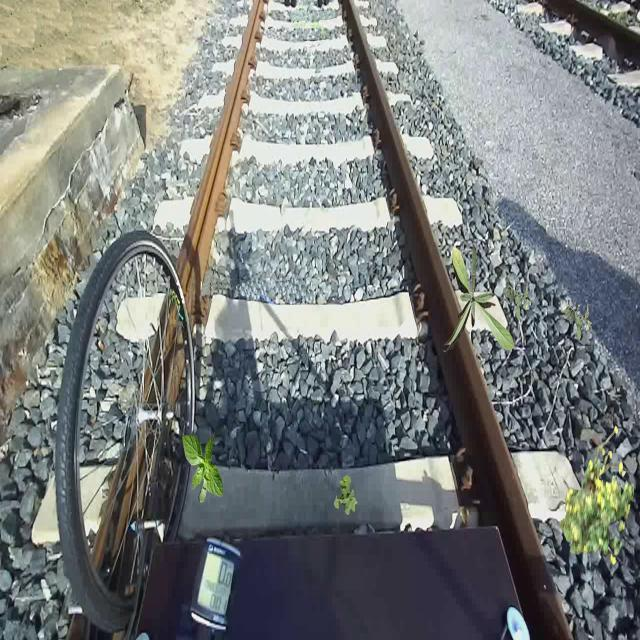Plant: (560, 426, 635, 566), (443, 245, 514, 353), (182, 432, 223, 503), (504, 279, 532, 320), (565, 300, 592, 341), (334, 475, 358, 516)
